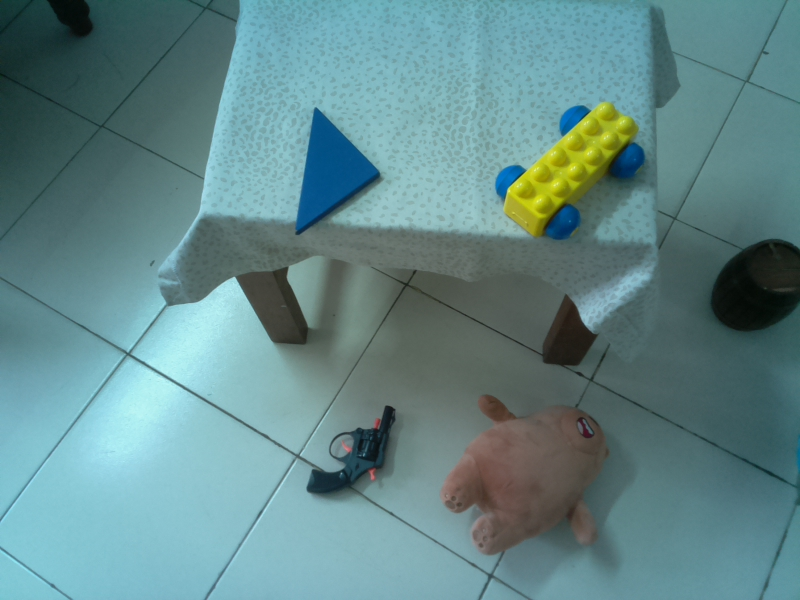Gun: (305, 403, 398, 497)
Triangle: (291, 105, 384, 240)
toy_Car: (492, 103, 649, 246)
